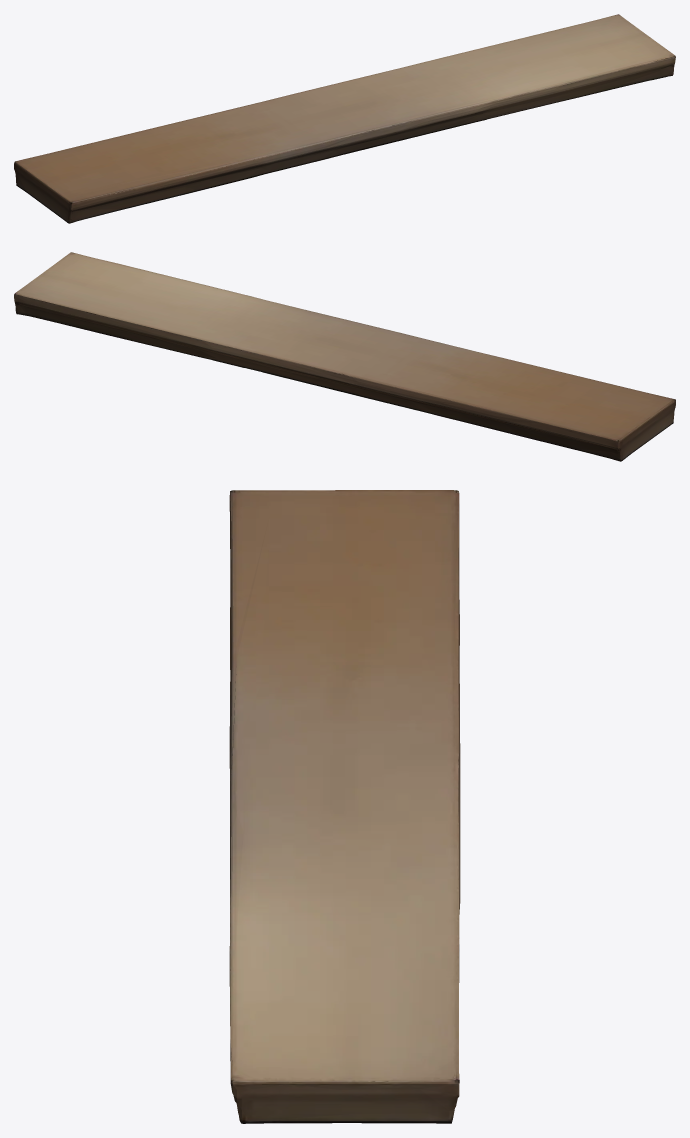
The model's file is controller_game_black.glb.
3 views of the same model, one above another, from view 1: azimuth 30°, elevation 25°; view 2: azimuth 150°, elevation 25°; view 3: azimuth 270°, elevation 25° (orthographic). The views are drawn at different scales.
Visible parts, largest first — view 1: geometry_0; view 2: geometry_0; view 3: geometry_0.
Boxes of the visible parts, x1,y1,x2,y2 form: geometry_0: [14, 14, 675, 223]; geometry_0: [14, 252, 675, 461]; geometry_0: [229, 490, 460, 1123].
Size of the model in its own units: 1 by 0.0357 by 0.165.
1 material, 1 textured.
